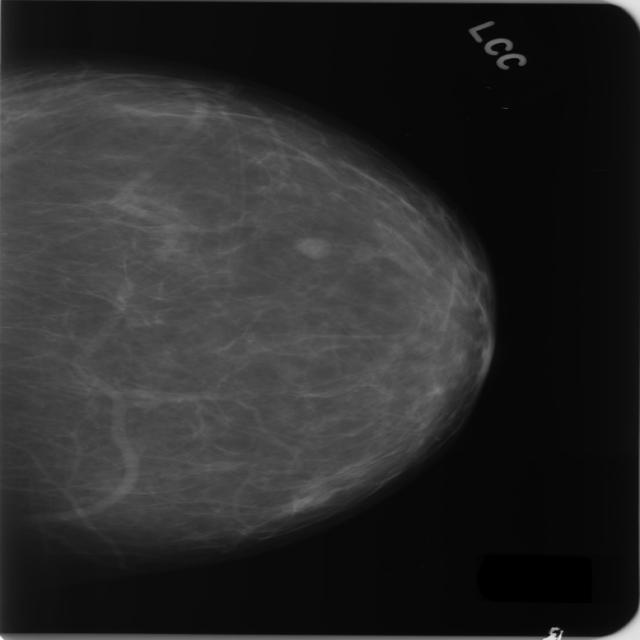tumour: (291, 235, 331, 258)
